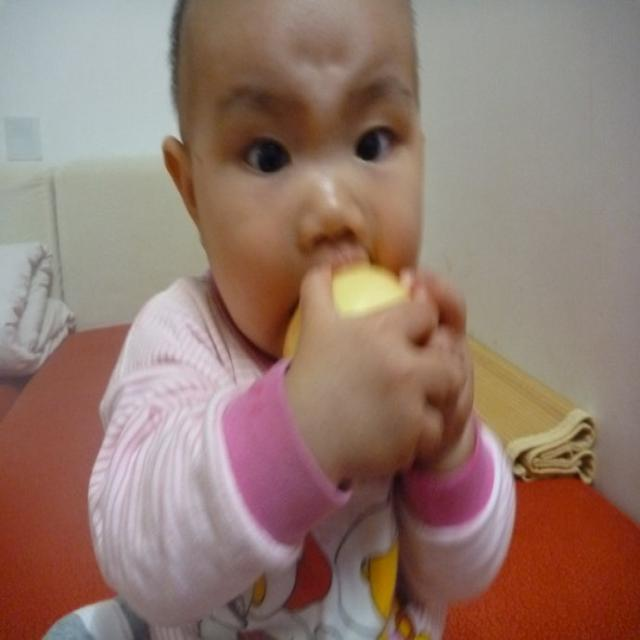nomask: (198, 1, 431, 363)
